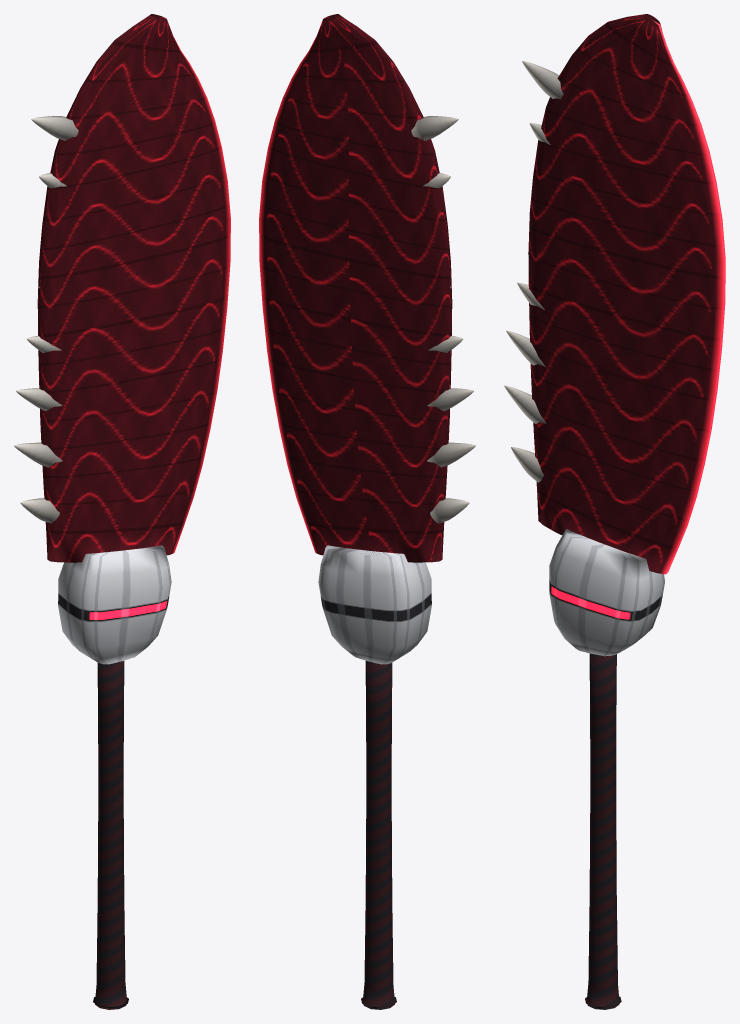
The model's file is cleaver_crow.glb.
The picture shows the model from 3 angles, left to right: view 1: azimuth 30°, elevation 25°; view 2: azimuth 150°, elevation 25°; view 3: azimuth 330°, elevation 25°; orthographic projection. The views are drawn at different scales.
Parts seen in each view (by area): view 1: quinque_crowcleaver; view 2: quinque_crowcleaver; view 3: quinque_crowcleaver.
Boxes of the visible parts, <box> form: quinque_crowcleaver: <box>14,14,230,1009</box>; quinque_crowcleaver: <box>259,14,475,1009</box>; quinque_crowcleaver: <box>504,14,725,1009</box>.
Size of the model in its own units: 0.5387 by 2.33 by 0.1506.
Materials: 1 (1 with a texture image).
